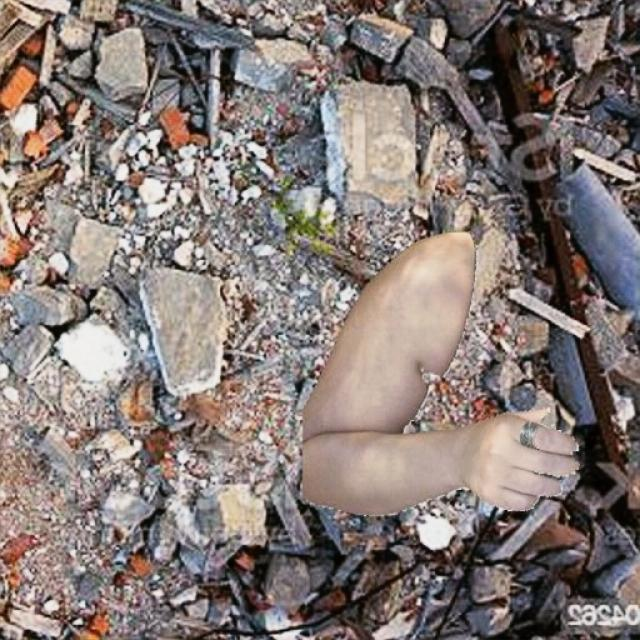Person in Rubble: (302, 230, 580, 515)
